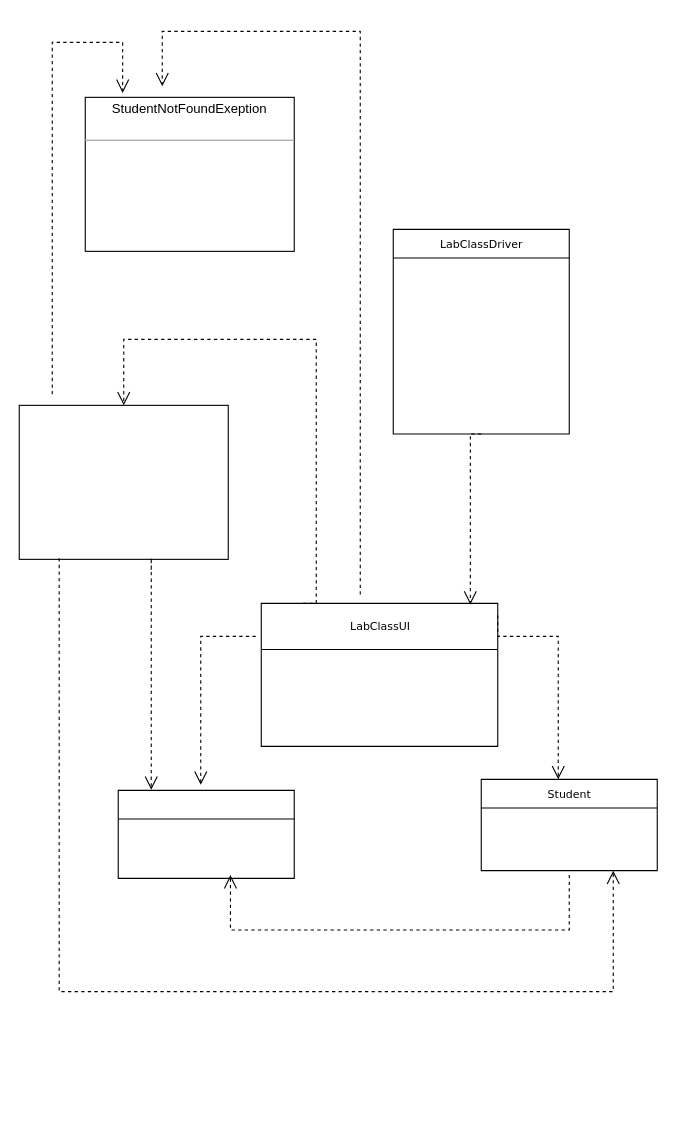
The diagram is 677 pixels wide and 1145 high, and some of its shapes have lost their labels. Here are the shapes that lost their labels. From the top down, the centre of each, then its label:
At pixel 123 481: "LabClass".
At pixel 205 833: "EmptyStringExeption".
